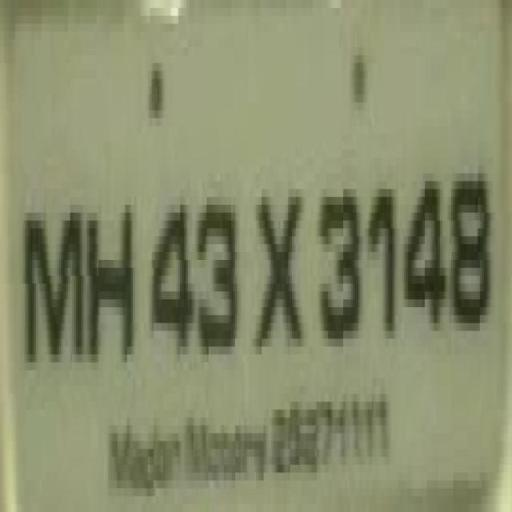number plate: (17, 8, 512, 480)
